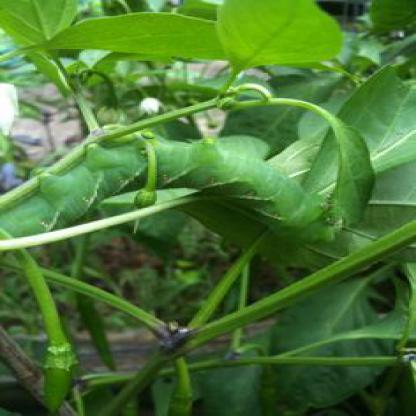bell pepper leaf: (11, 9, 217, 66), (215, 1, 345, 70)
